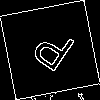P: (24, 24, 77, 81)
